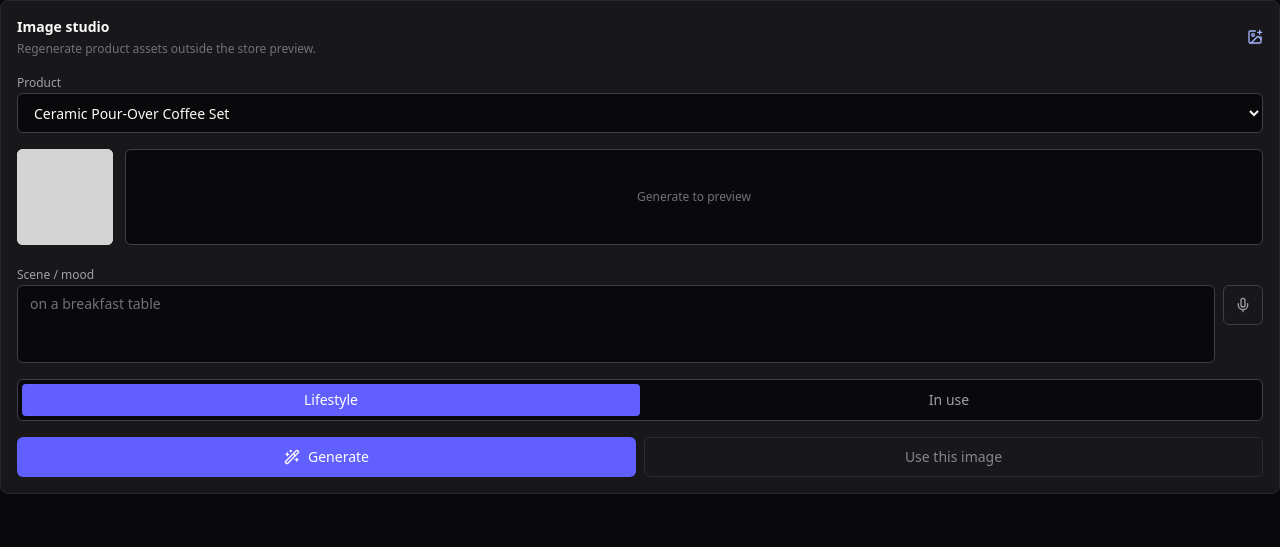
Test case: ImageStudio › shows a friendly error for unreadable API responses
Click the button "Generate" at (326, 457), box [17,437,636,477]
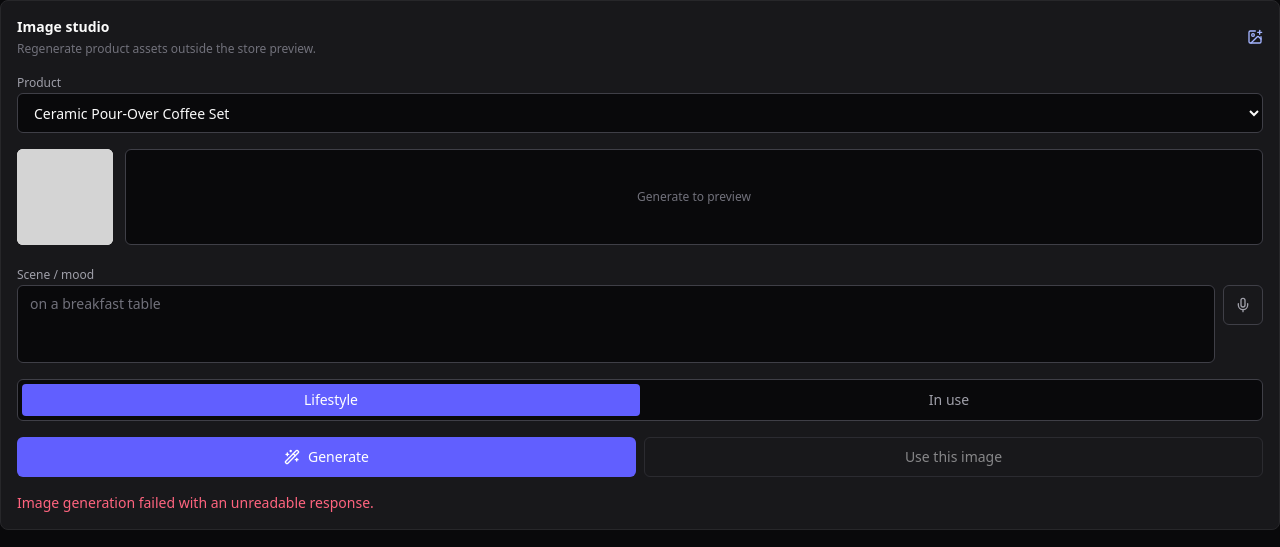
expect the text "Image generation failed with an unreadable response." is shown: met, box [17,493,374,512]
